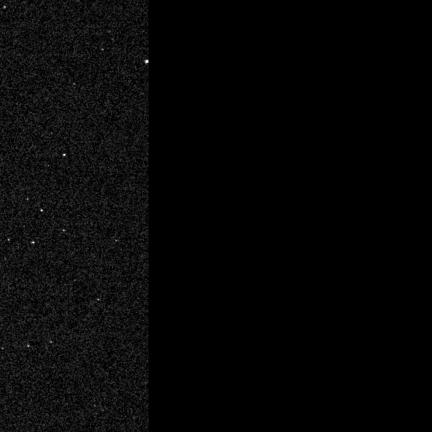blob: (63, 154, 67, 157), (41, 209, 44, 213), (3, 6, 7, 9), (27, 198, 30, 201), (63, 230, 66, 233), (8, 239, 11, 242), (50, 341, 53, 344), (27, 345, 30, 348), (32, 242, 35, 245), (145, 60, 148, 63), (102, 49, 104, 52)
